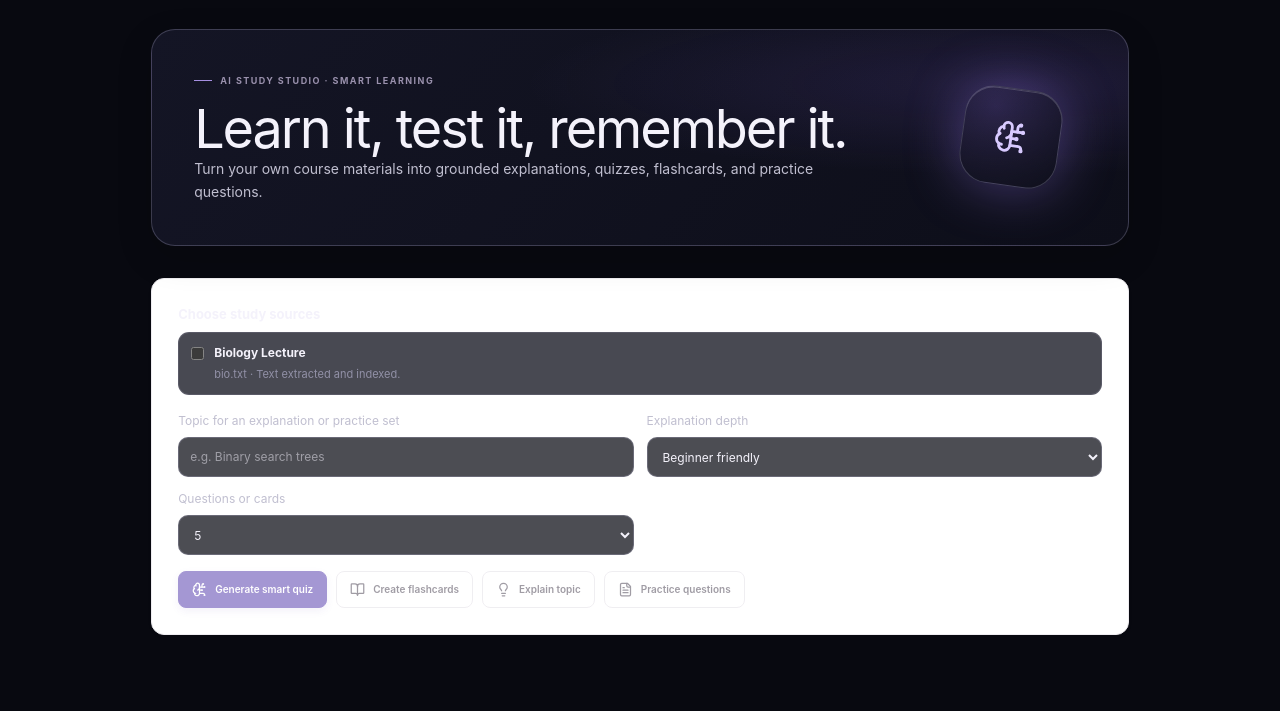
Test: AI Study Studio interactions › generates a source-grounded quiz, scores answers, and restarts
The width and height of the screenshot is (1280, 711).
Click the checkbox labelled "Biology Lecture". click: (198, 354)
box: [191,347,204,360]
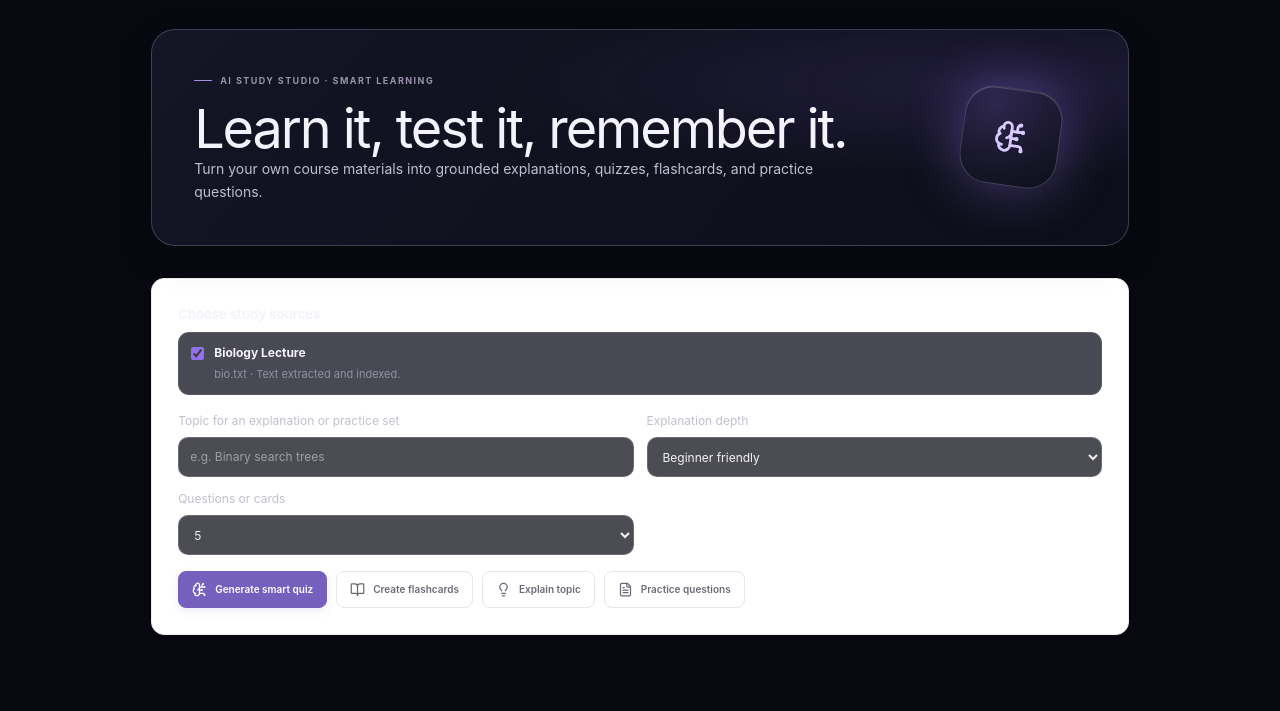
Click the button "Generate smart quiz". click: (253, 590)
box: [178,571,327,608]
(page scrolled)
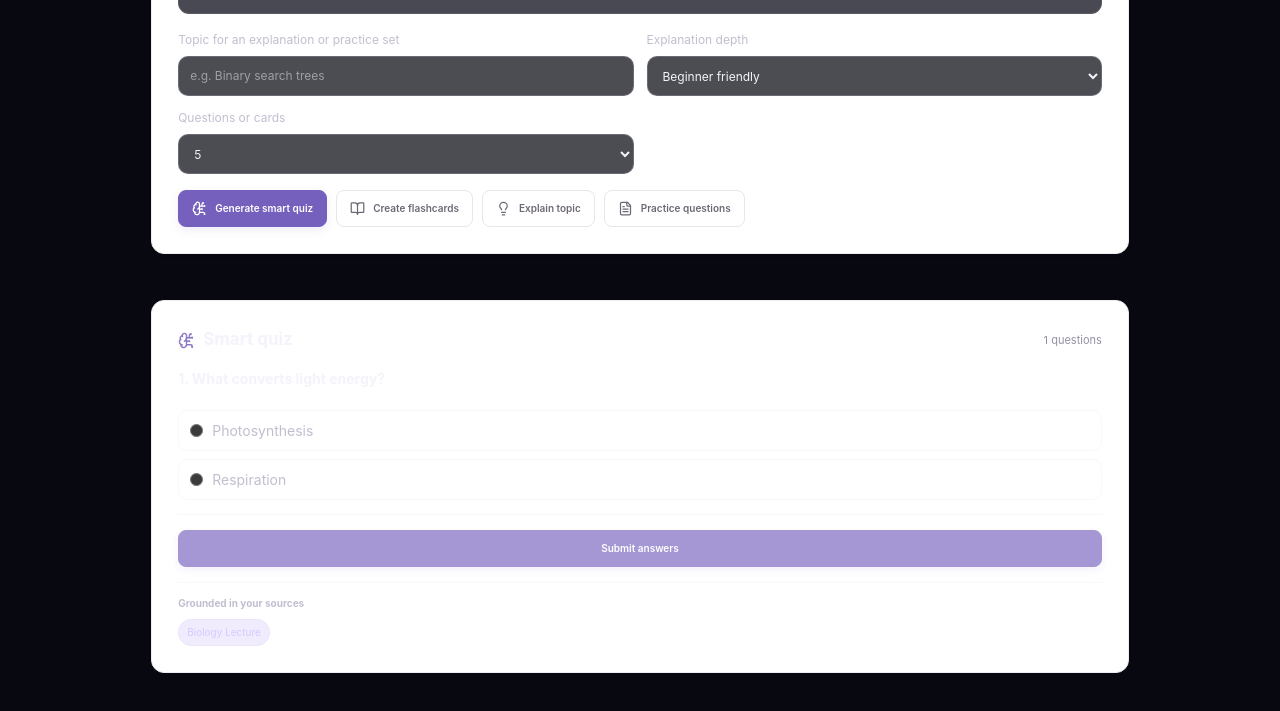
Click the radio button labelled "Photosynthesis". click: (197, 430)
box: [190,424,203,437]
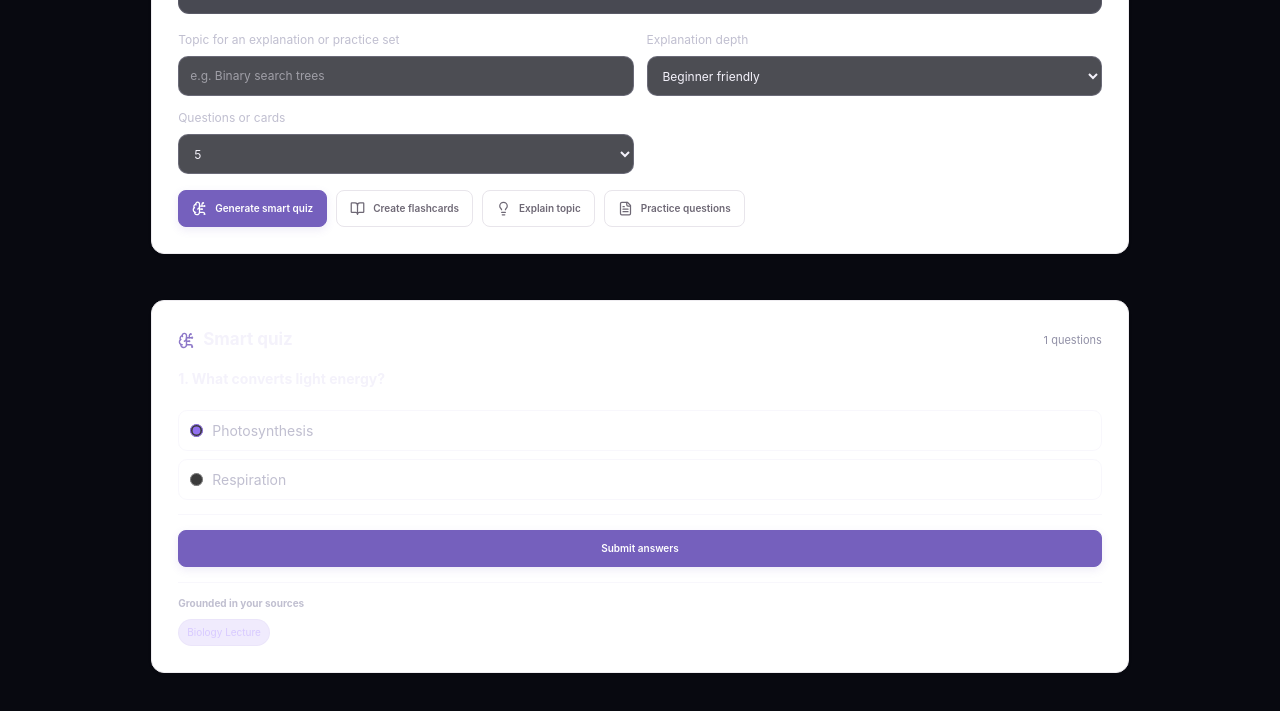
Click the button "Submit answers". click: (640, 548)
box: [178,530,1102,567]
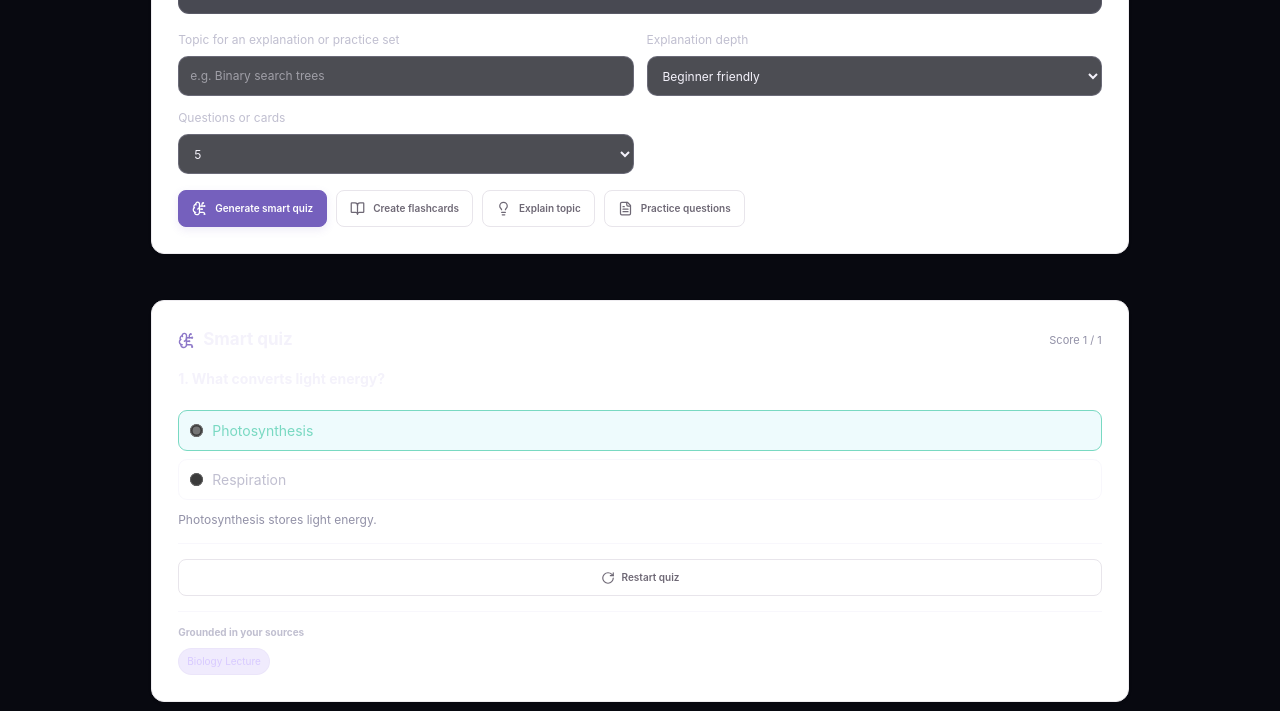
Result: the text "Score 1 / 1" is shown at [1049,332,1102,348]
Result: the text "Photosynthesis stores light energy." is shown at [178,512,377,527]
Click the button "Restart quiz". click: (640, 578)
box: [178,559,1102,596]
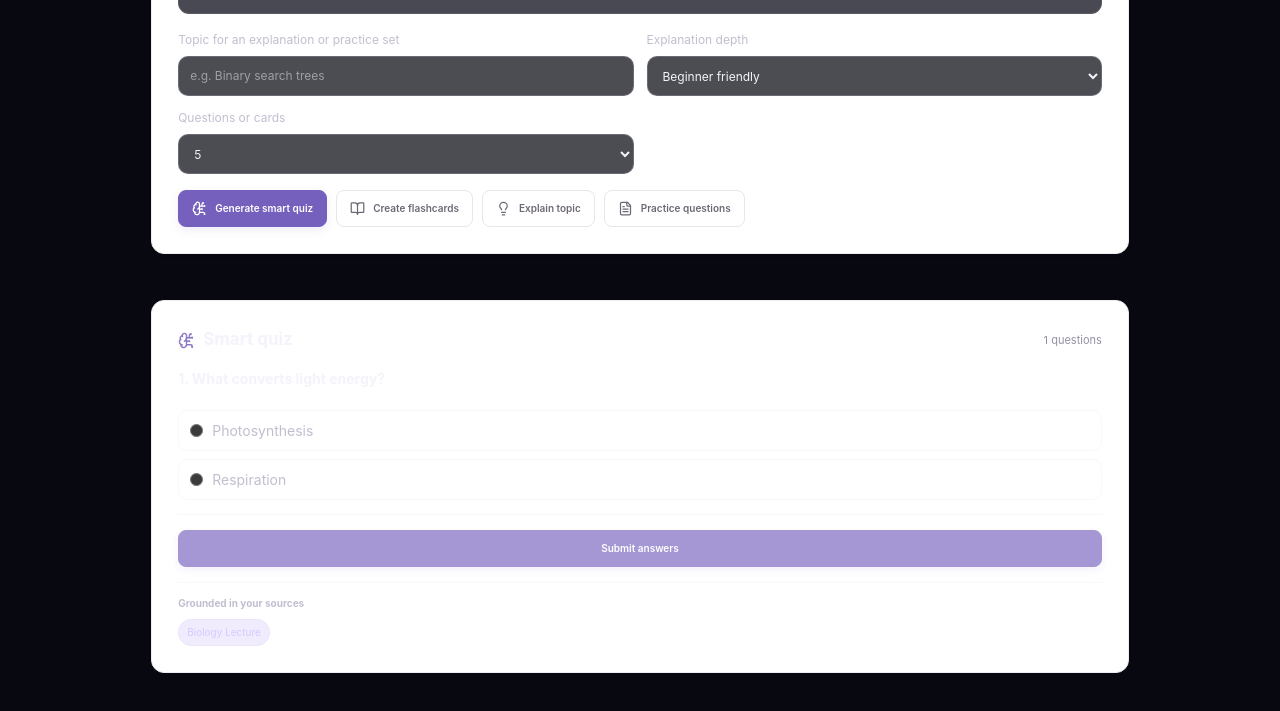
Result: the button "Submit answers" is disabled at [178,530,1102,567]
